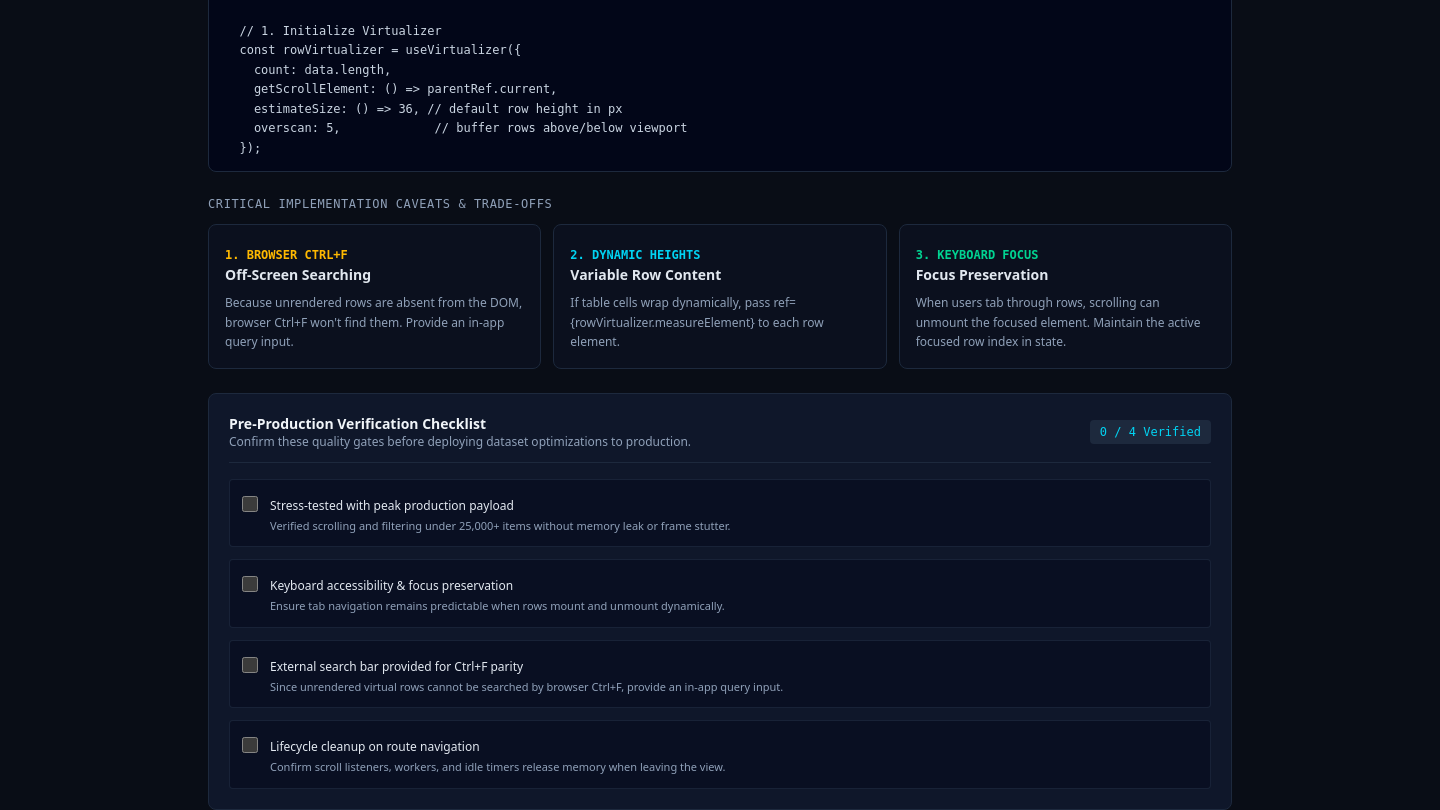
Test: DatasetImplementationGuide › updates completed items count in the verification checklist
(page scrolled)
Expected: the text "0 / 4 Verified" is shown, [1090,420,1211,444]
Click the 1st checkbox at (250, 504), box [242,496,258,512]
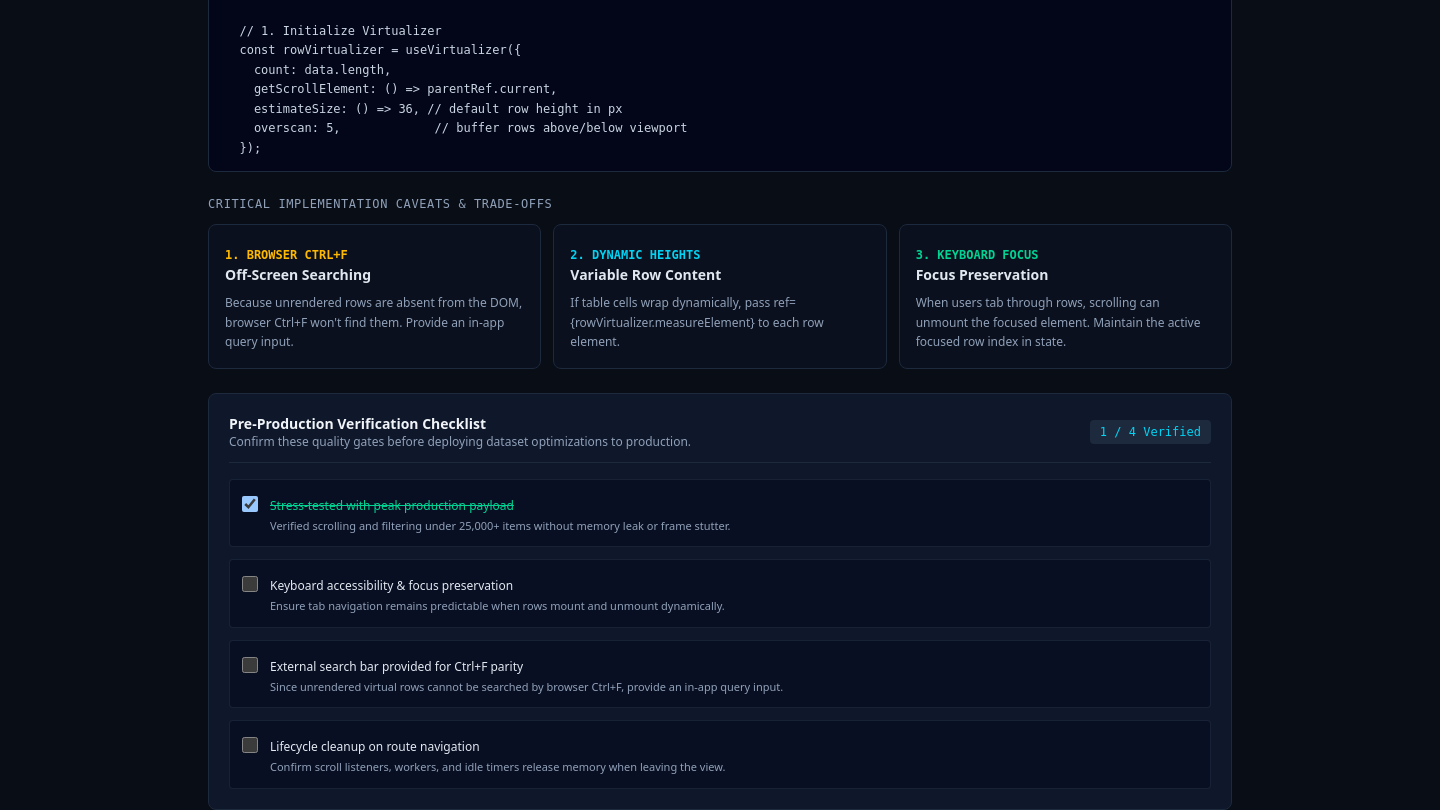
Expected: the text "1 / 4 Verified" is shown, [1090,420,1211,444]
